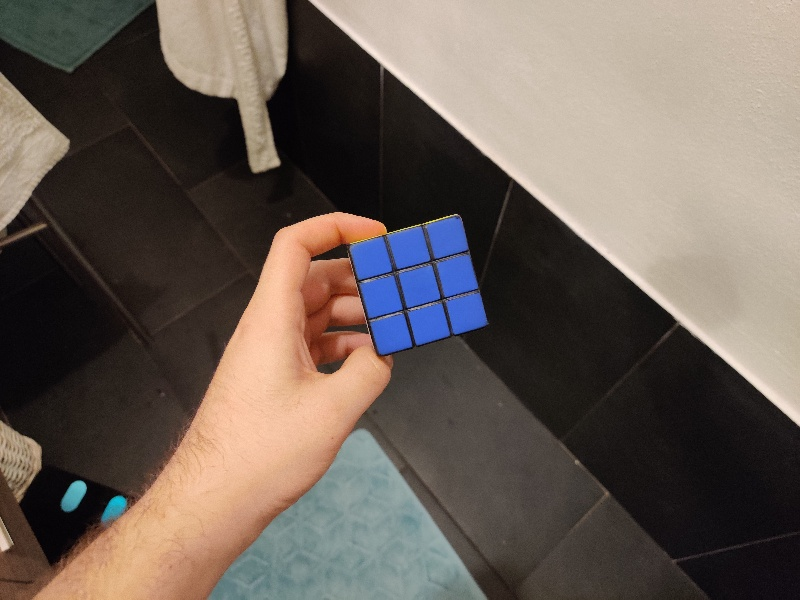rubik: (349, 213, 488, 359)
